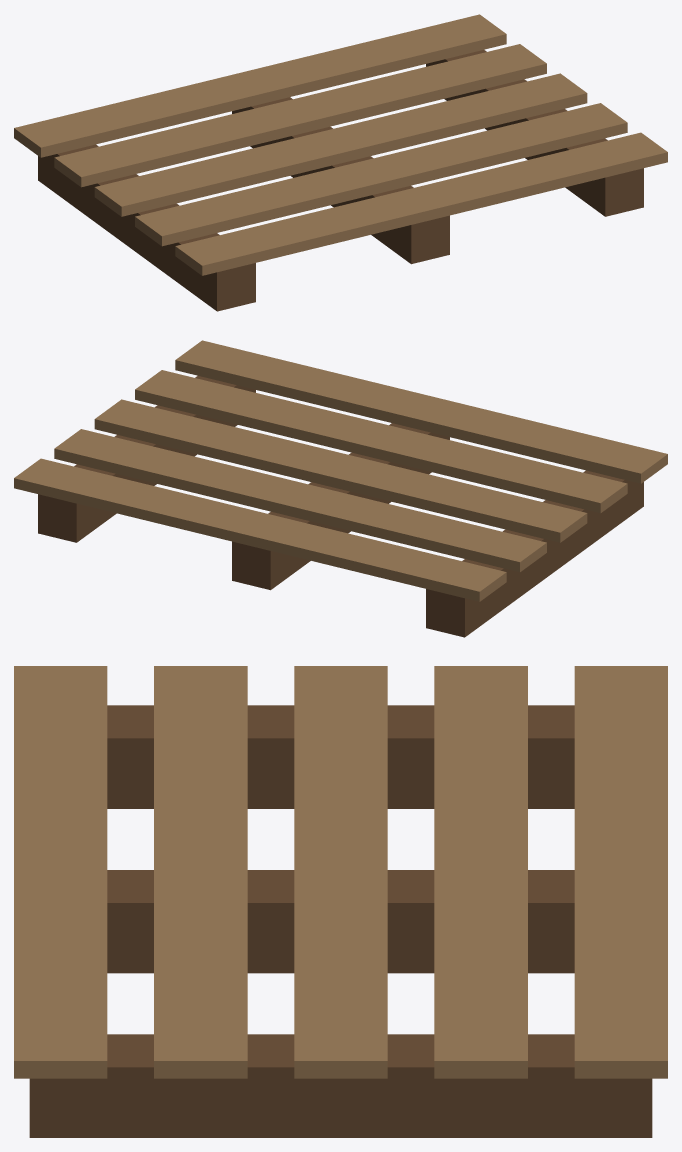
Rendered from pallet.glb.
3 views of the same model, one above another, from view 1: azimuth 30°, elevation 25°; view 2: azimuth 150°, elevation 25°; view 3: azimuth 270°, elevation 25° (orthographic). The views are drawn at different scales.
Visible parts, largest first — view 1: Pallet; view 2: Pallet; view 3: Pallet.
Part boxes in pixels (x1,y1,x2,y2): Pallet: (14, 14, 667, 311); Pallet: (14, 340, 667, 637); Pallet: (14, 666, 667, 1137).
Bounding box in the file's own units: 1.2 × 0.1325 × 0.84.
